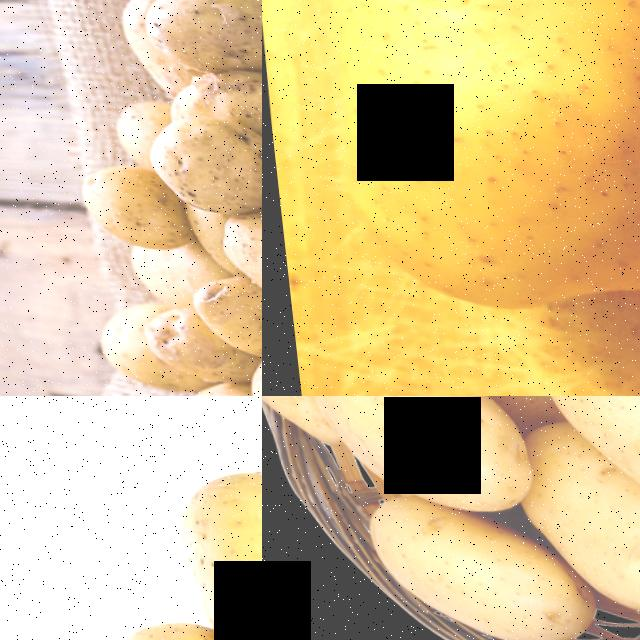potato: (296, 0, 640, 339), (351, 487, 573, 640), (502, 422, 640, 615), (299, 396, 530, 502), (159, 450, 262, 640), (135, 98, 262, 208), (84, 288, 213, 385), (523, 396, 640, 487), (69, 152, 172, 242), (136, 0, 262, 70), (209, 204, 262, 325)
